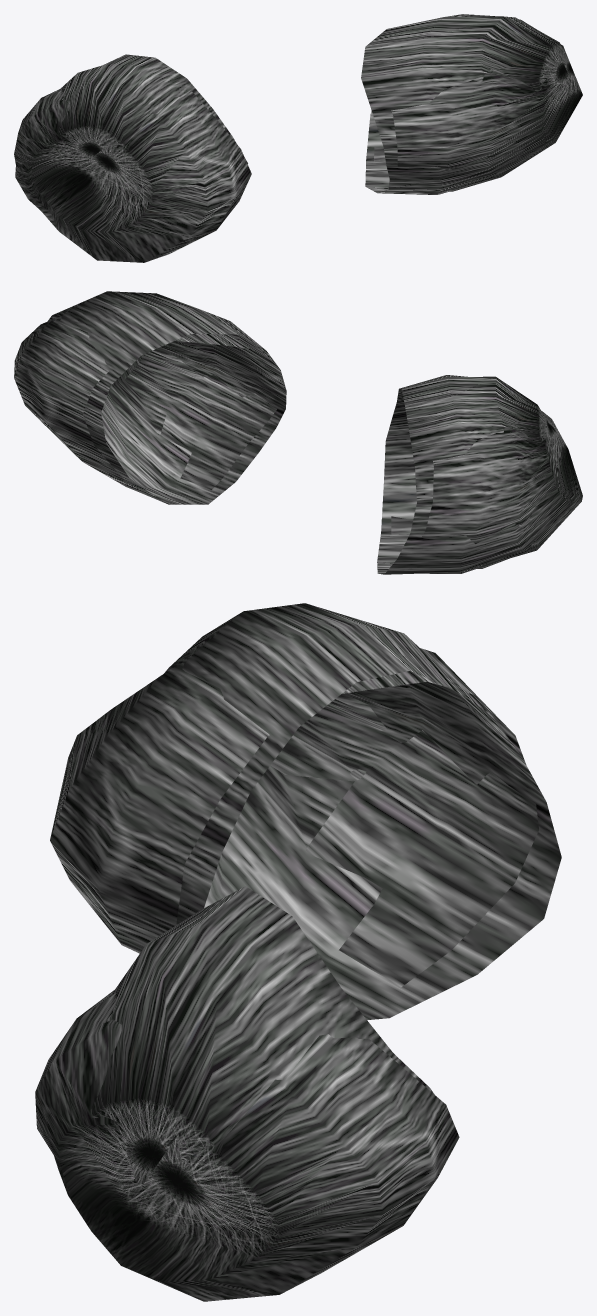
File: INST_SB_BROKEN_COCOON.fbx
The picture shows the model from 3 angles, top to bottom: view 1: azimuth 30°, elevation 25°; view 2: azimuth 150°, elevation 25°; view 3: azimuth 270°, elevation 25°; orthographic projection. The views are drawn at different scales.
Parts seen in each view (by area): view 1: INST_SB_BROKEN_COCOON; view 2: INST_SB_BROKEN_COCOON; view 3: INST_SB_BROKEN_COCOON.
Boxes of the visible parts, x1,y1,x2,y2 form: INST_SB_BROKEN_COCOON: (14, 14, 582, 262); INST_SB_BROKEN_COCOON: (14, 291, 582, 574); INST_SB_BROKEN_COCOON: (35, 603, 561, 1301).
Size of the model in its own units: 25106 by 8342 by 10909.
Materials: 1 (1 with a texture image).
